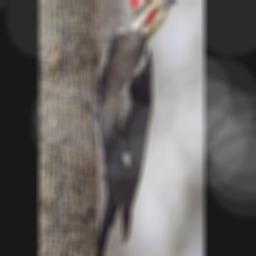Woodpecker: (75, 0, 177, 256)
